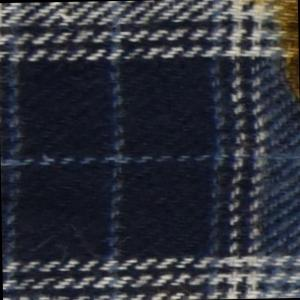Oil Stain: (238, 1, 300, 111)
